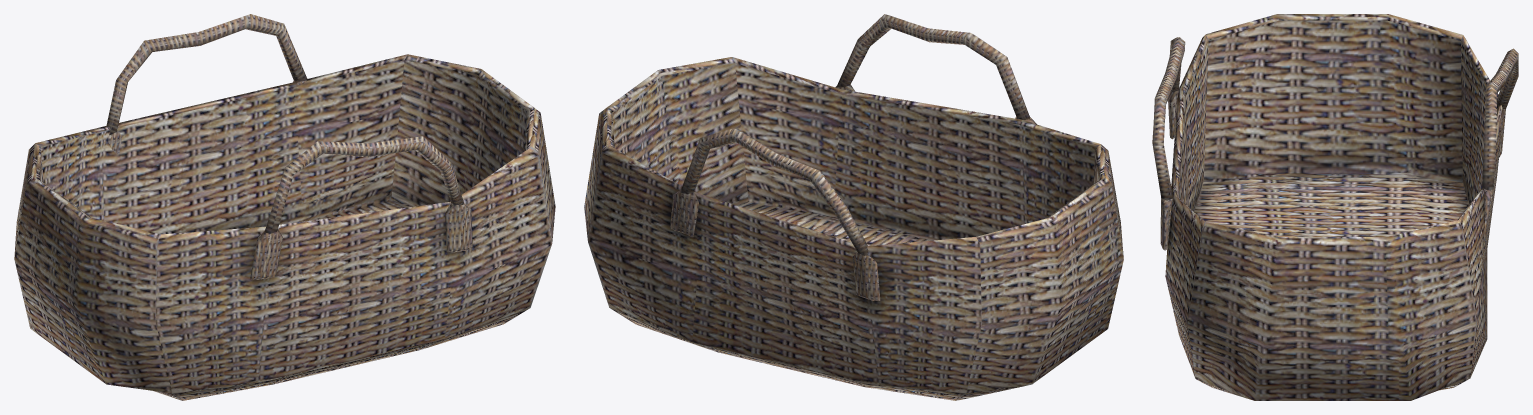
File: Prop_Basket_Model.fbx
3 views of the same model, side by side, from view 1: azimuth 30°, elevation 25°; view 2: azimuth 150°, elevation 25°; view 3: azimuth 270°, elevation 25° (orthographic). The views are drawn at different scales.
Visible parts, largest first — view 1: polySurface1; view 2: polySurface1; view 3: polySurface1.
Boxes of the visible parts, bbox=[...] form: polySurface1: bbox=[14, 14, 555, 400]; polySurface1: bbox=[584, 14, 1123, 400]; polySurface1: bbox=[1152, 14, 1518, 400].
Size of the model in its own units: 57.92 by 28.79 by 37.72.
